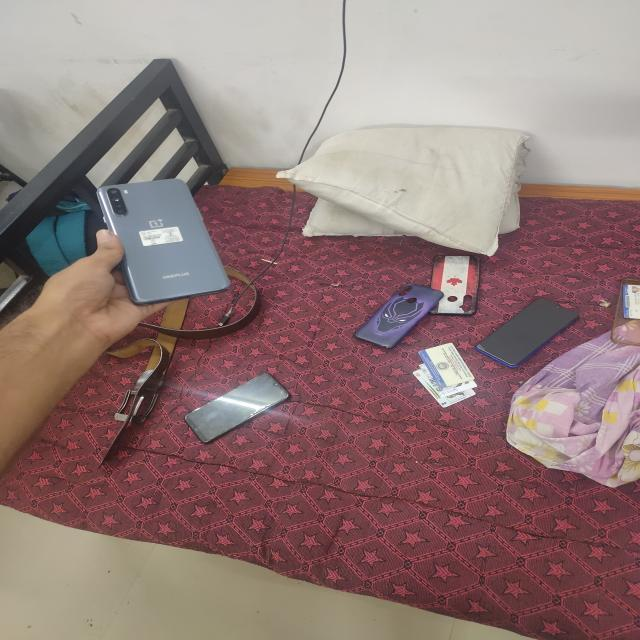Phone: (95, 176, 236, 306), (181, 369, 292, 449), (474, 294, 582, 376), (352, 280, 447, 362), (424, 246, 485, 320)
